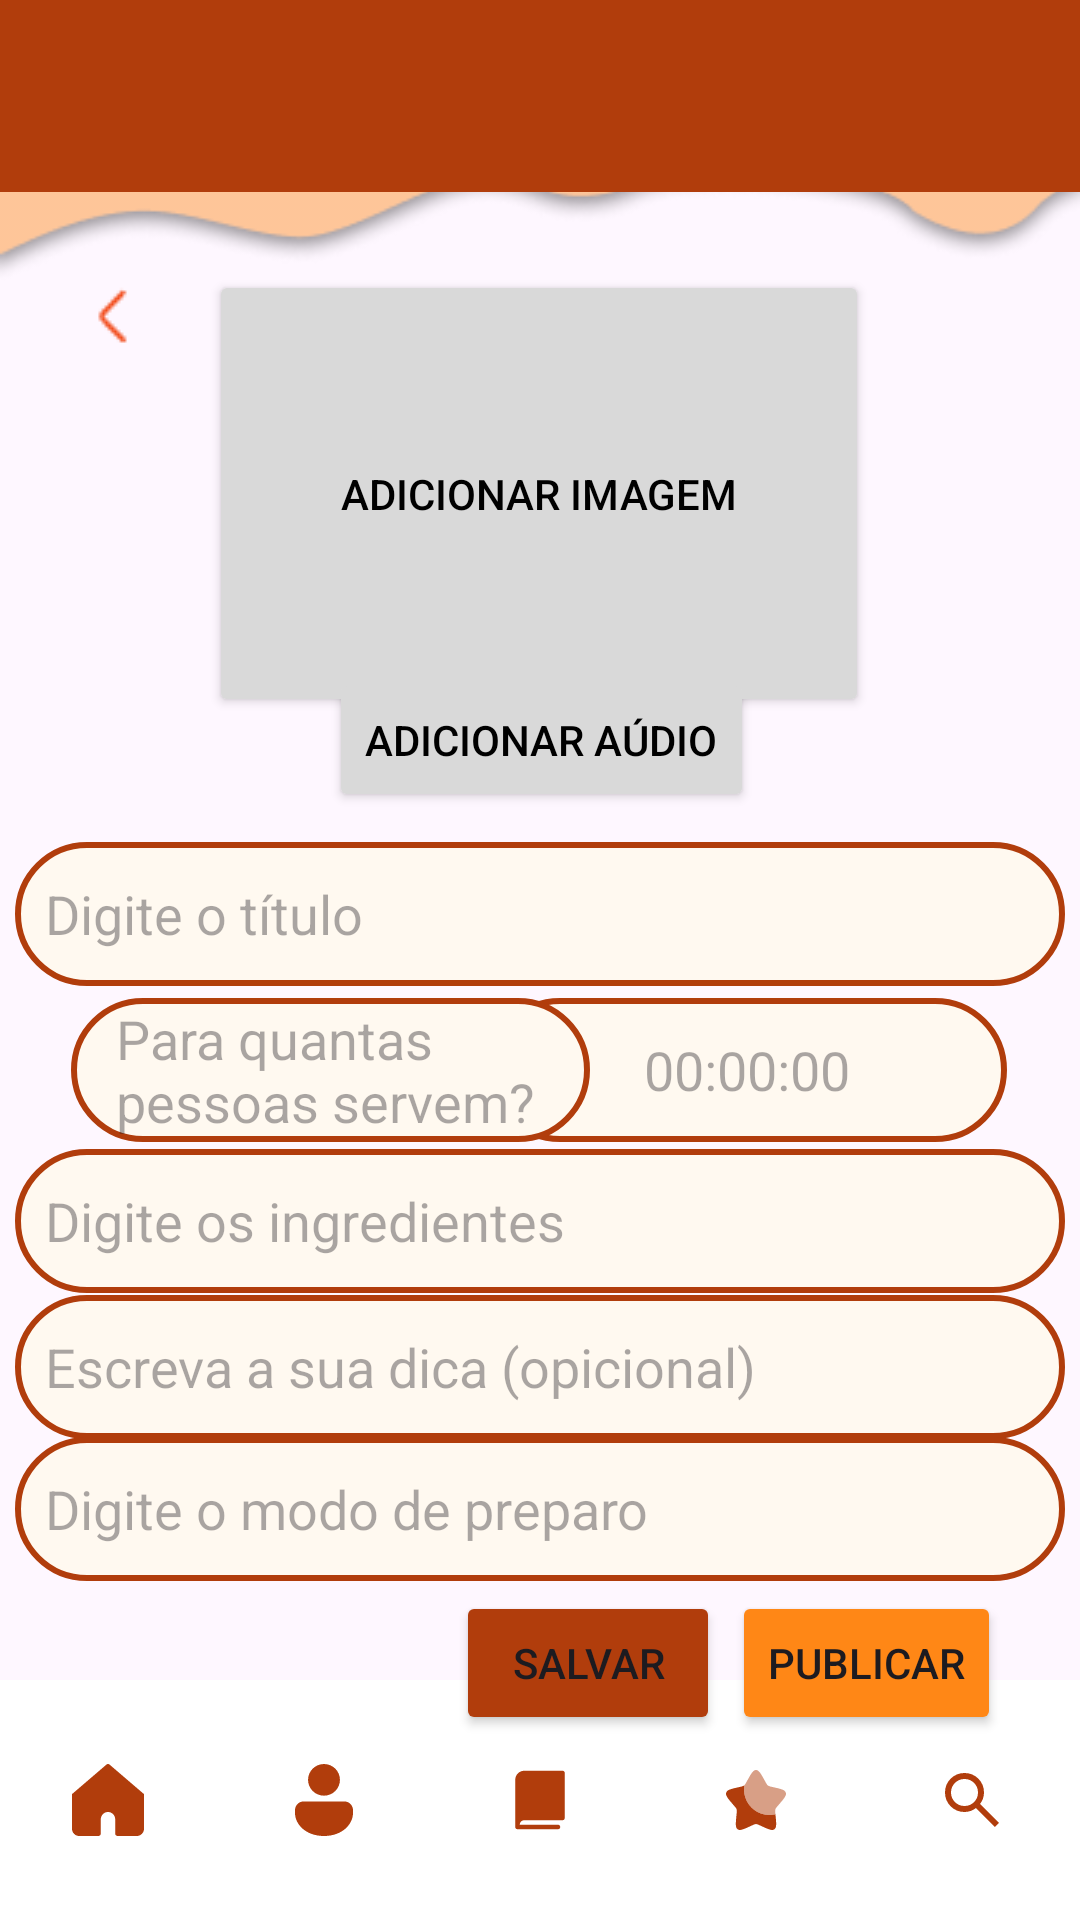

Icons on this 1080w x 1920h Android screen, each with the point to tap as [x,y]:
setadesaida: [112,316]
